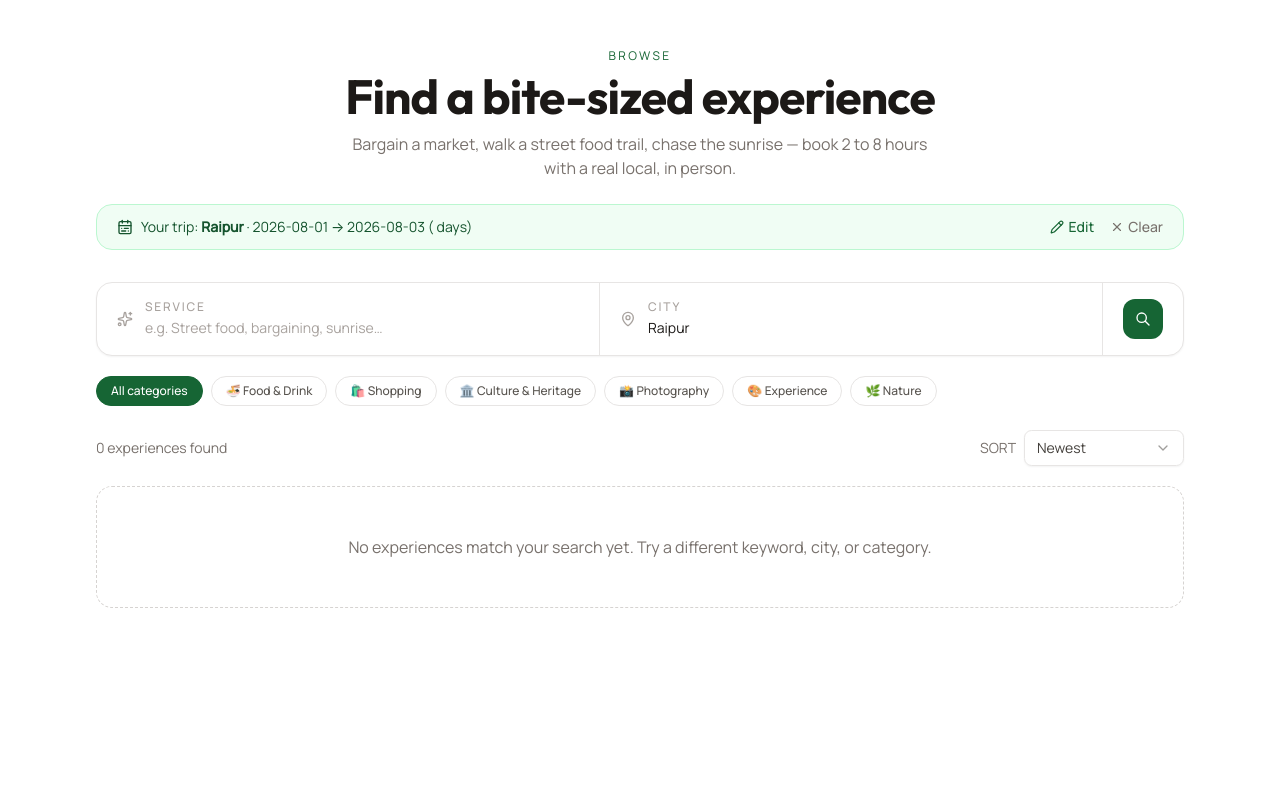
Test: Browse trip banner — clear draft flow › confirming Clear wipes the draft and removes the banner
Expected: the element with test id "trip-context-banner" is shown, [96,204,1184,250]
What coordinates should you click on to do the following:
click the button with test id "clear-trip-link"
I would click on:
 (1137, 227)
Its box is [1110,217,1163,237].
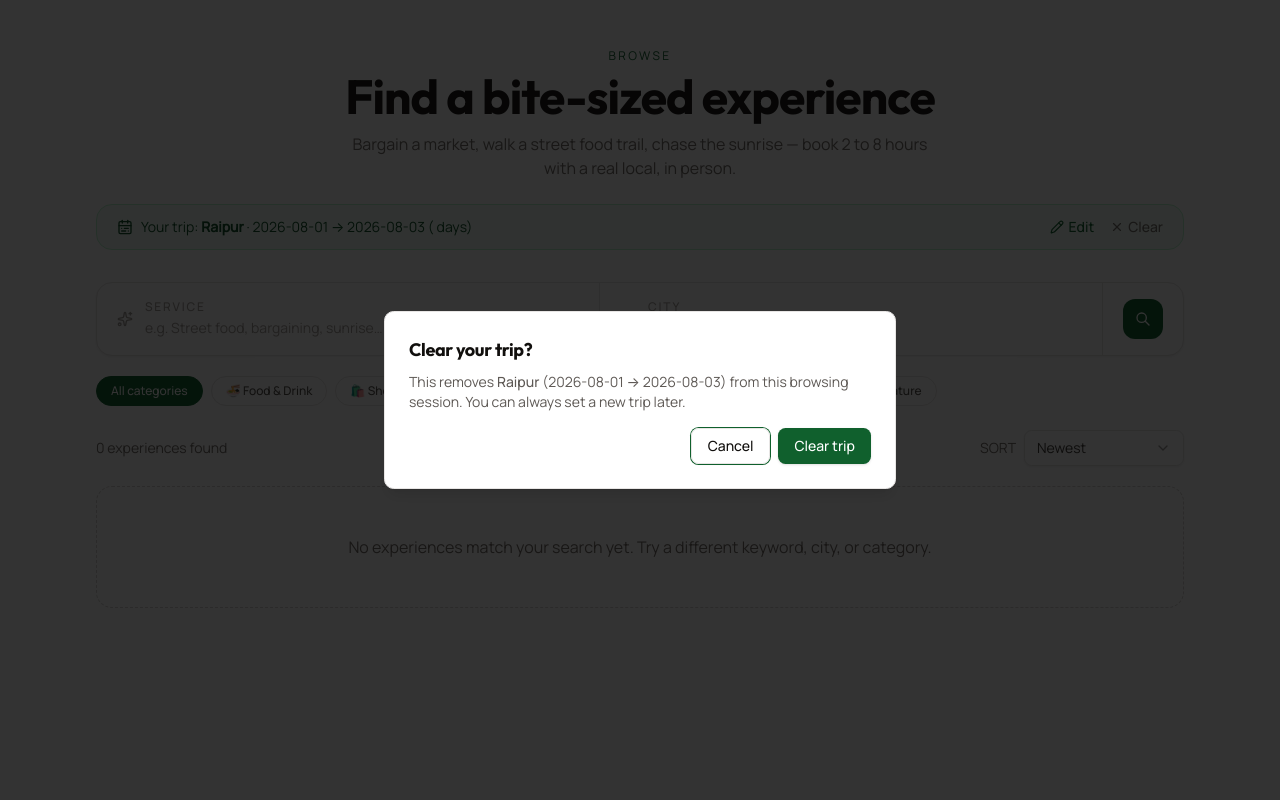
What coordinates should you click on to do the following:
click the button with test id "confirm-clear-trip"
I would click on:
 (825, 446)
Its box is [778,428,871,464].
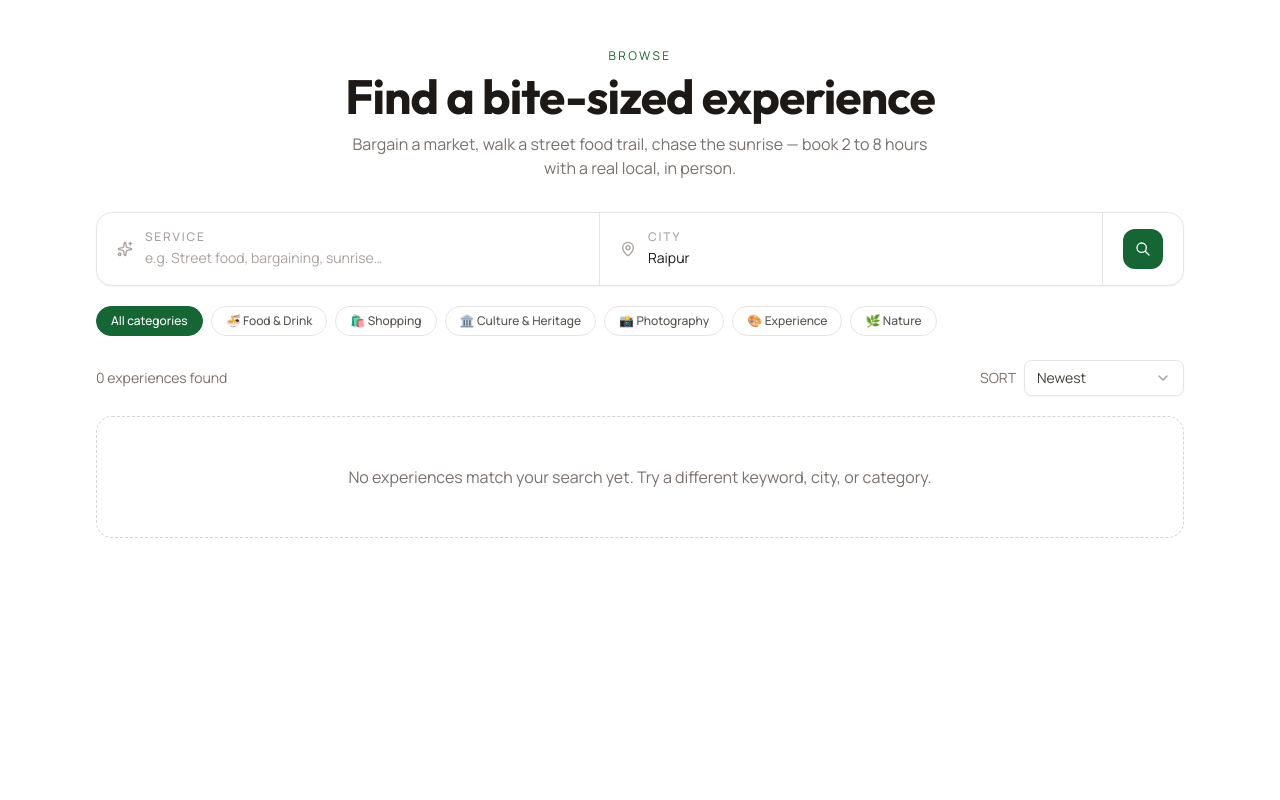
Expected: the element with test id "trip-context-banner" is gone
